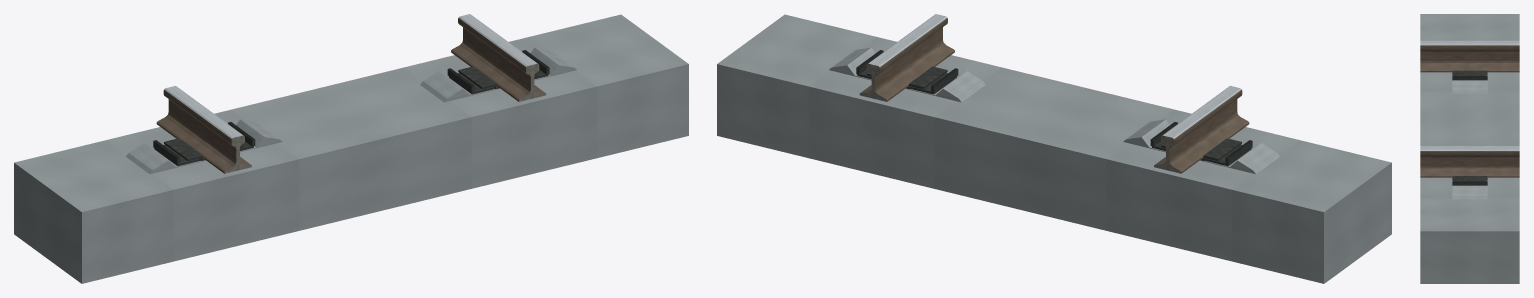
The model's file is slab_mid.obj.
3 renders of one model, left to right at view 1: azimuth 30°, elevation 25°; view 2: azimuth 150°, elevation 25°; view 3: azimuth 270°, elevation 25°, orthographic. The views are drawn at different scales.
Visible parts, largest first — view 1: slab_bed, rail_left, rail_right, sleeper, fastener_right, fastener_left; view 2: slab_bed, rail_left, rail_right, sleeper, fastener_right, fastener_left; view 3: slab_bed, rail_left, rail_right, sleeper, fastener_left, fastener_right.
Part boxes in pixels (x1,y1,x2,y2): slab_bed: [14, 14, 688, 283]; rail_left: [156, 86, 250, 173]; rail_right: [451, 14, 544, 101]; sleeper: [126, 47, 576, 174]; fastener_right: [447, 50, 549, 94]; fastener_left: [153, 122, 255, 166]; slab_bed: [717, 14, 1391, 283]; rail_left: [1155, 86, 1249, 173]; rail_right: [861, 14, 954, 101]; sleeper: [829, 47, 1279, 174]; fastener_right: [856, 50, 958, 94]; fastener_left: [1150, 122, 1252, 166]; slab_bed: [1420, 14, 1519, 283]; rail_left: [1420, 40, 1519, 72]; rail_right: [1420, 146, 1519, 177]; sleeper: [1452, 75, 1487, 199]; fastener_left: [1452, 70, 1487, 80]; fastener_right: [1452, 176, 1487, 185].
Size of the model in its own units: 3.1 by 0.5324 by 0.6.
